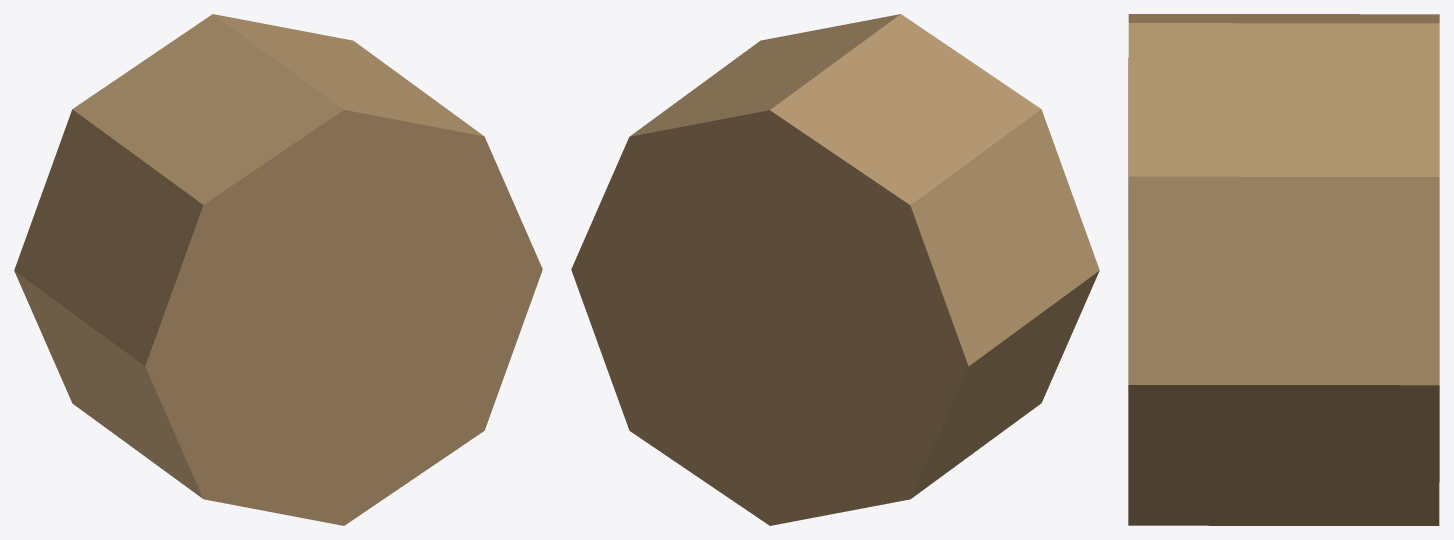
The model's file is rope_climb.glb.
The picture shows the model from 3 angles, left to right: view 1: azimuth 30°, elevation 25°; view 2: azimuth 150°, elevation 25°; view 3: azimuth 270°, elevation 25°; orthographic projection. The views are drawn at different scales.
Visible parts, largest first — view 1: cyl; view 2: cyl; view 3: cyl.
Part boxes in pixels (<box>): cyl: <box>14,14,542,525</box>; cyl: <box>571,14,1099,525</box>; cyl: <box>1128,14,1439,525</box>.
Bounding box in the file's own units: 0.14 × 0.1401 × 0.0801.
